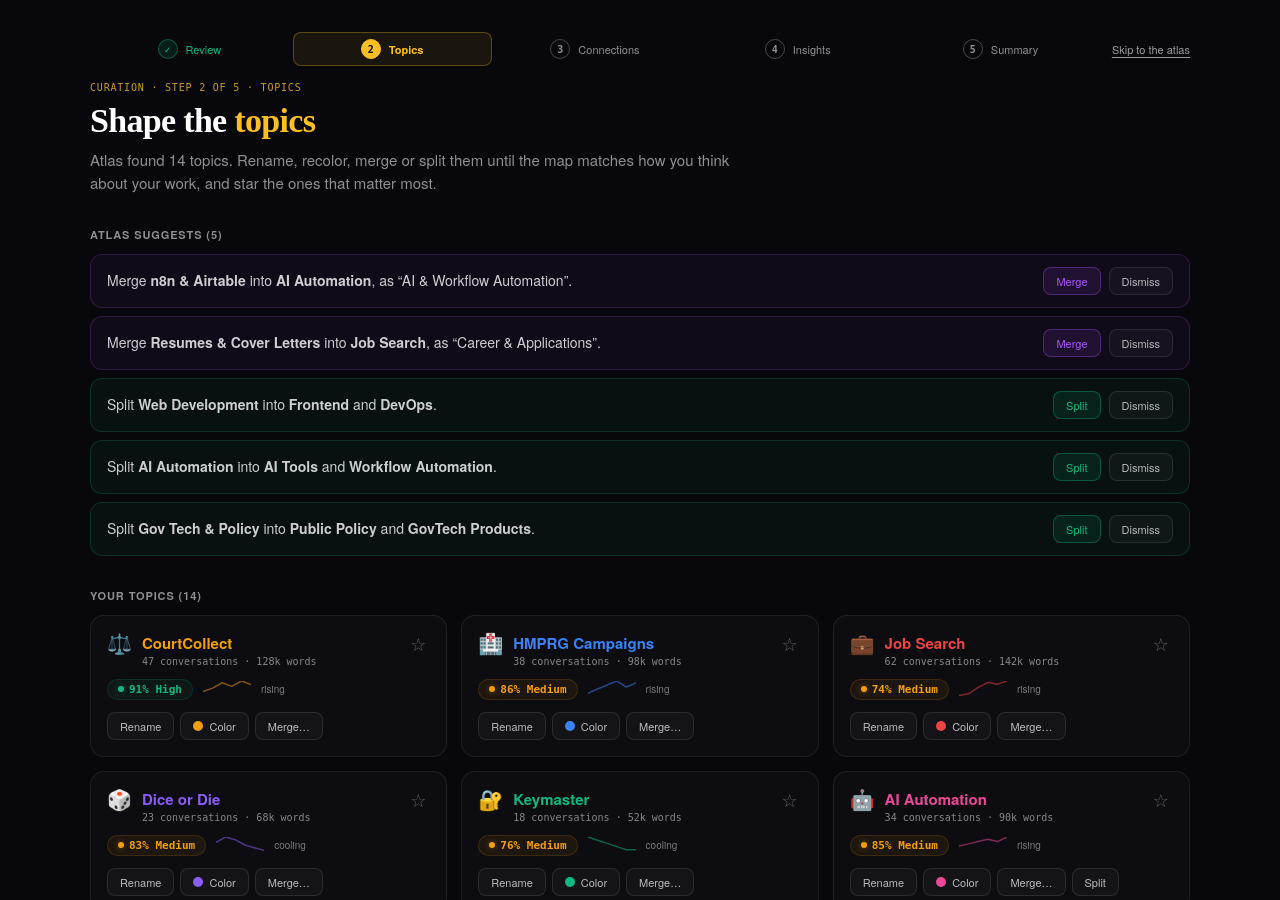
Test case: <TopicCurationPanel> › stars are toggle buttons
The image size is (1280, 900).
Click the button named "Star CourtCollect".
click(418, 645)  # box [406,632,430,658]
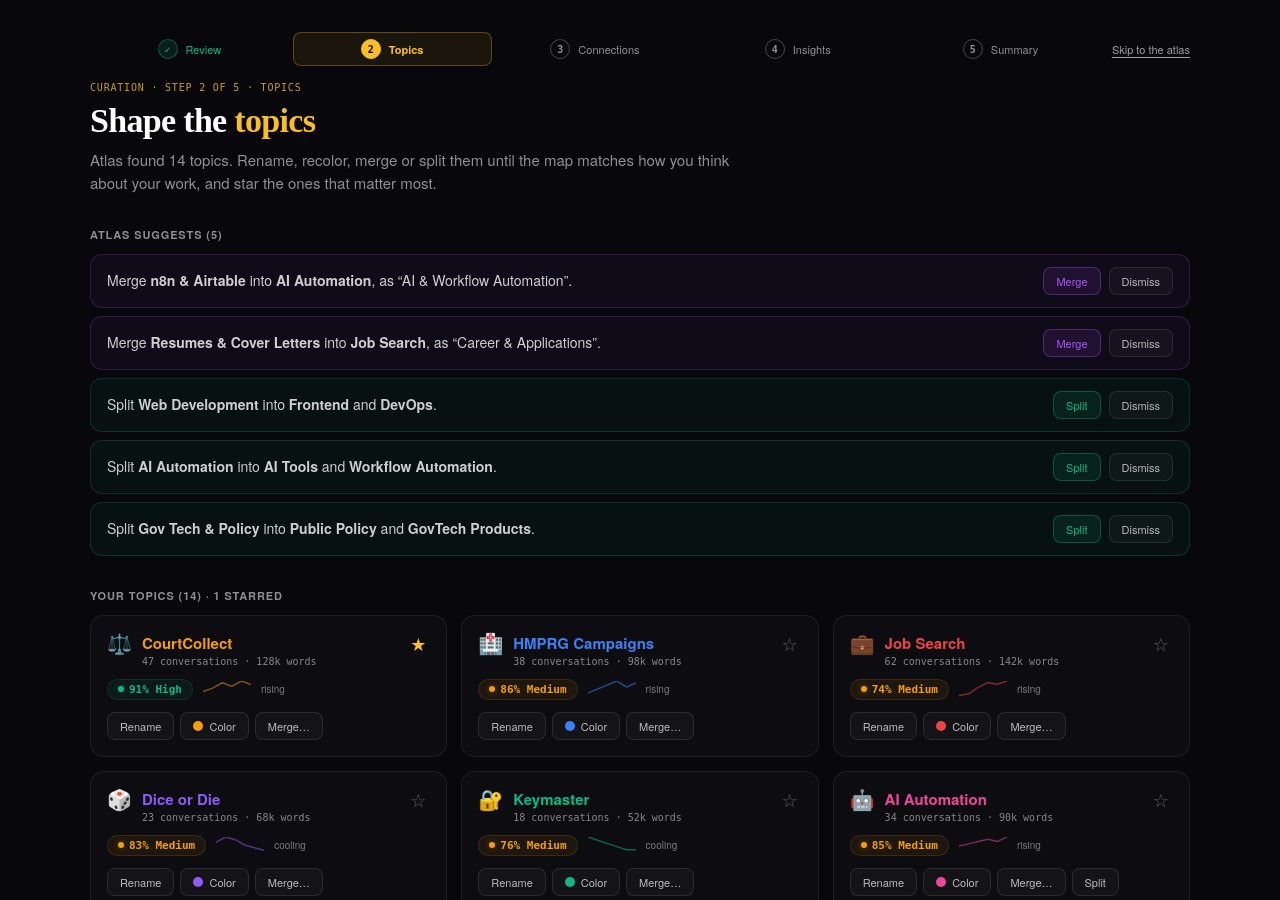
Now the heading "Your topics (14) · 1 starred" is shown, box [90,588,283,603]
